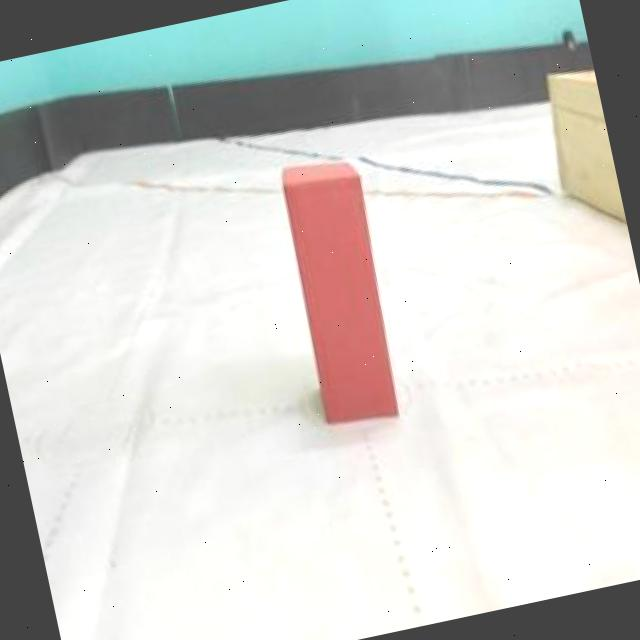redbox: (272, 151, 411, 429)
